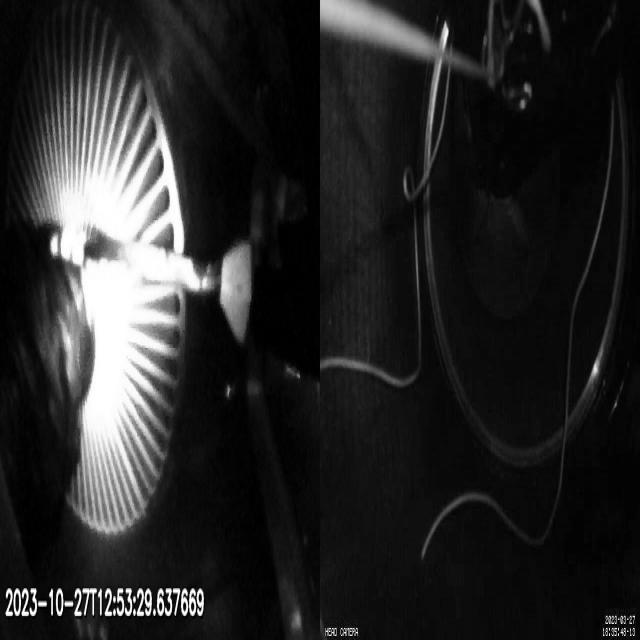head: (220, 240, 253, 338)
white-dots: (50, 224, 85, 266)
